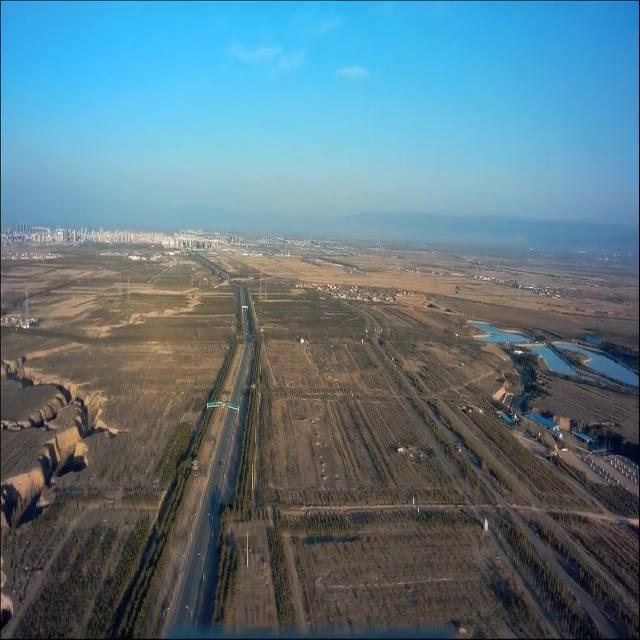iha: (206, 395, 240, 417)
